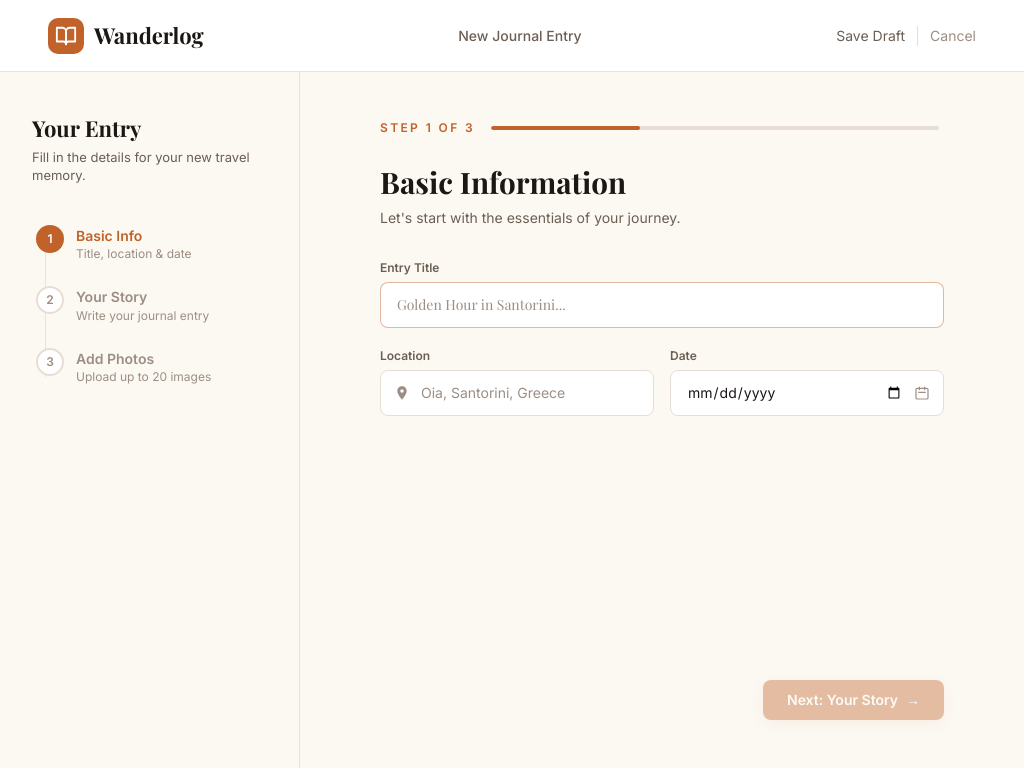
Test: CreateEntry › Back button on step 1 returns to Basic Info
Type "Lisbon at Dawn" into the field with placeholder "Golden Hour in Santorini...".
click(662, 305); type("Lisbon at Dawn")  # box 380,282 -> 944,328
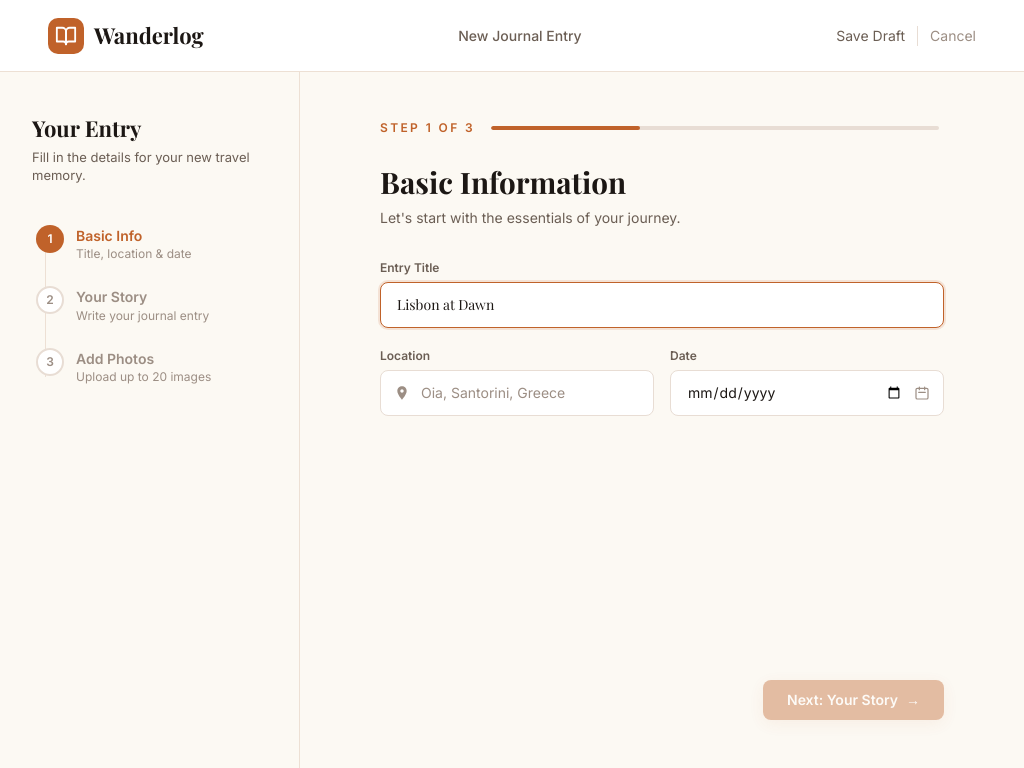
Type "Lisbon, Portugal" into the field with placeholder "Oia, Santorini, Greece".
click(517, 393); type("Lisbon, Portugal")  # box 380,370 -> 654,416
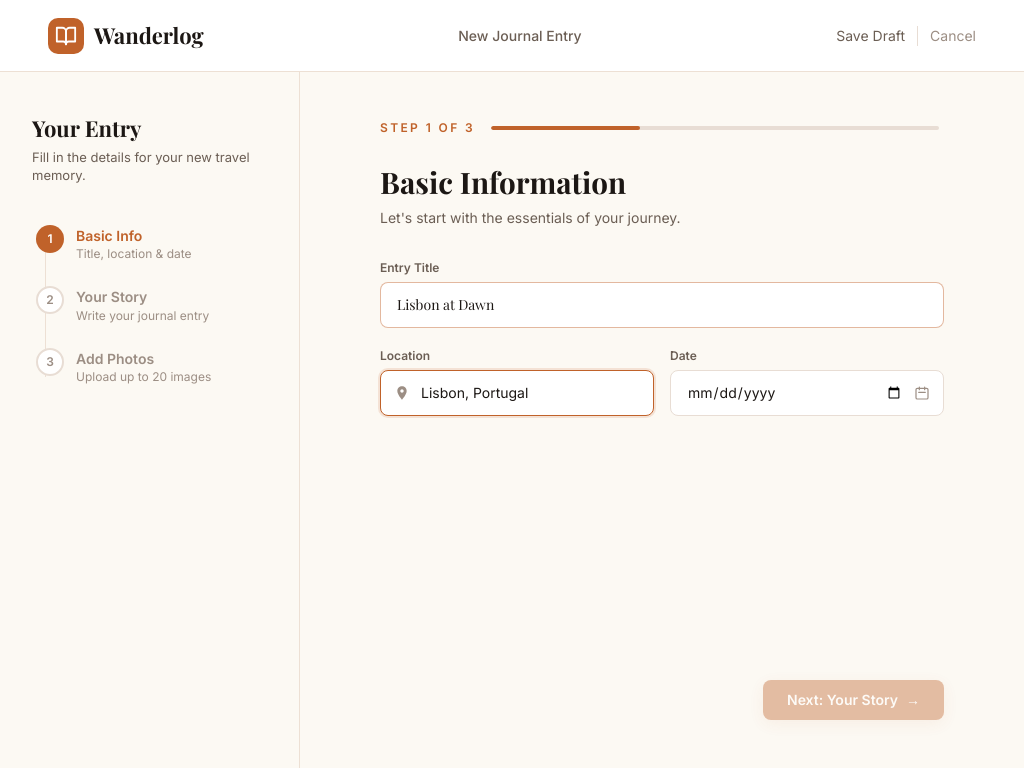
Type "2024-06-01" into the date field.
click(807, 393); type("2024-06-01")  # box 670,370 -> 944,416
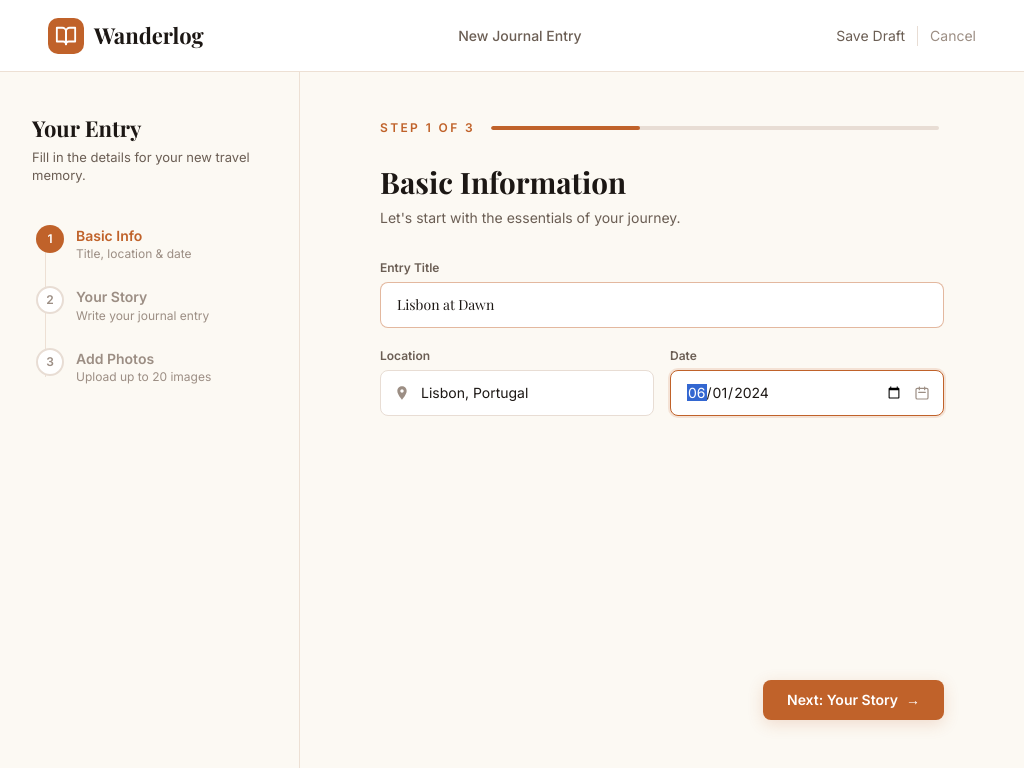
Click the button "Next: Your Story →".
click(854, 700)  # box 763,680 -> 944,720
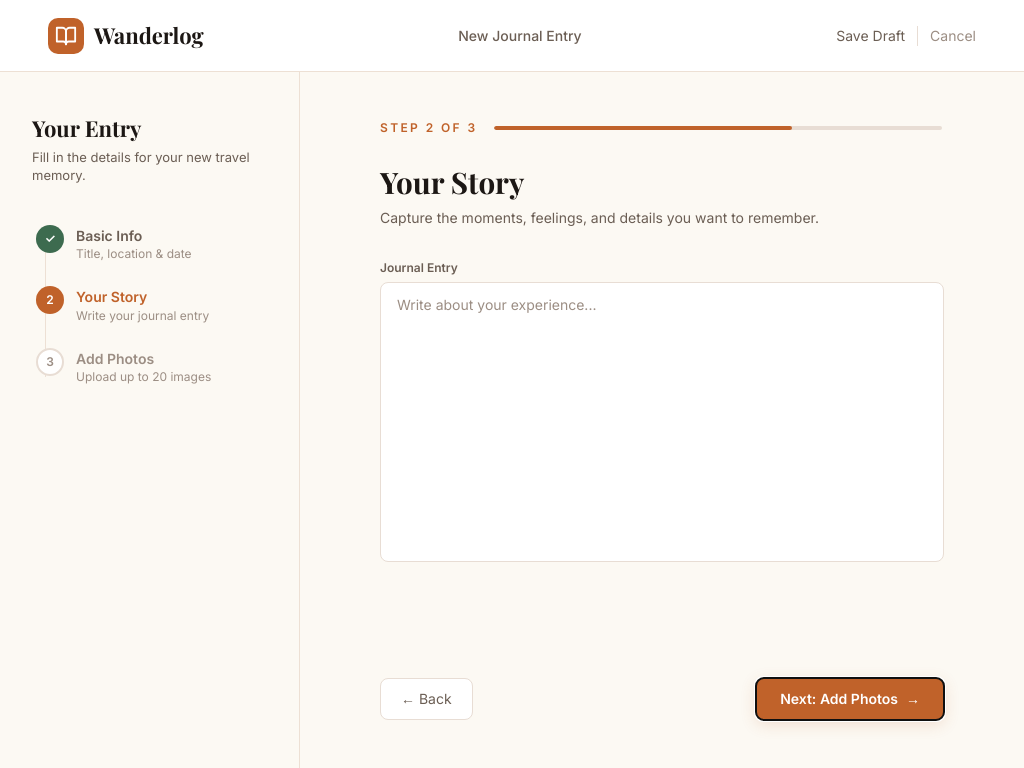
Click the button "← Back".
click(426, 699)  # box 380,678 -> 473,720
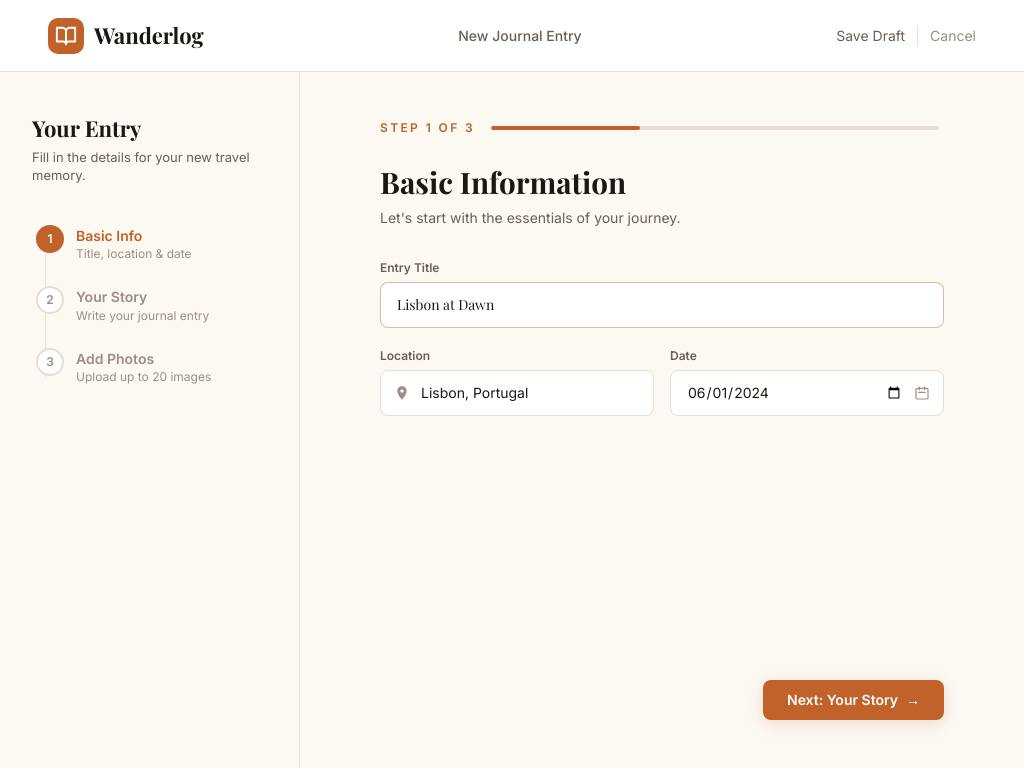
Now the heading "Basic Information" is shown, box 380,162 -> 626,201
